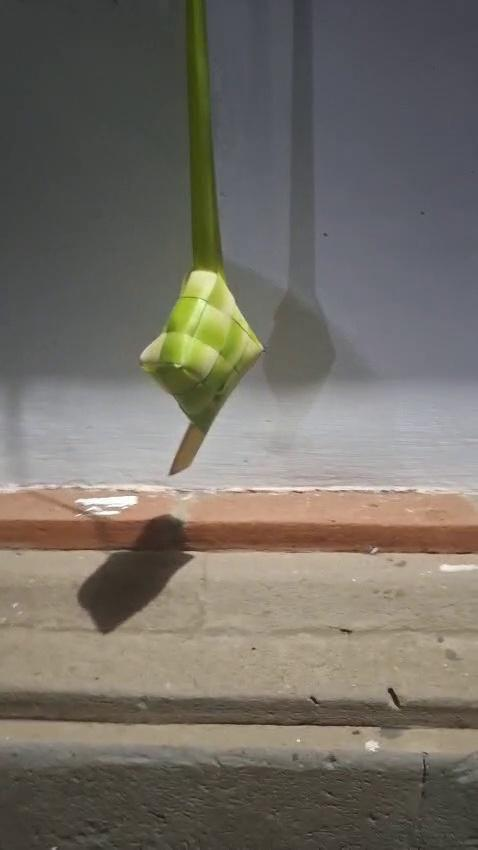Tipat Nasi: (133, 264, 272, 481)
